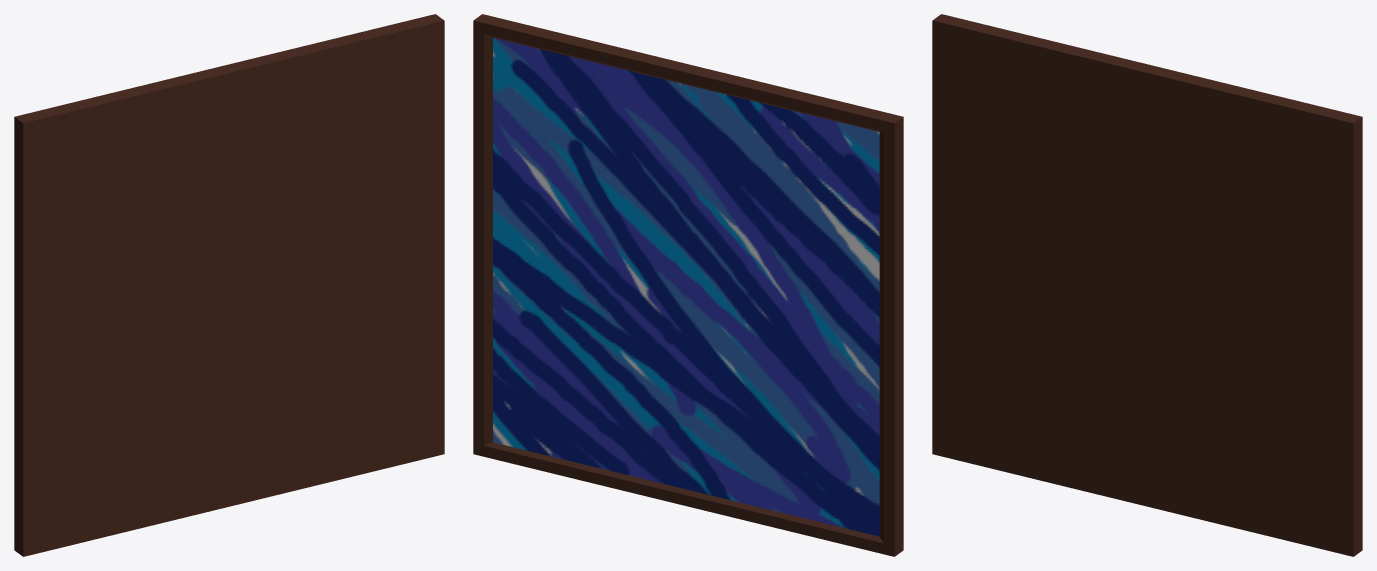
The model's file is Painting3.fbx.
The picture shows the model from 3 angles, left to right: view 1: azimuth 30°, elevation 25°; view 2: azimuth 150°, elevation 25°; view 3: azimuth 330°, elevation 25°; orthographic projection.
Parts seen in each view (by area): view 1: Cube.006; view 2: Cube.006; view 3: Cube.006.
Boxes of the visible parts, left/top/right/bottom form: Cube.006: left=14, top=14, right=444, bottom=556; Cube.006: left=473, top=14, right=903, bottom=556; Cube.006: left=932, top=14, right=1362, bottom=556.
Size of the model in its own units: 436 by 429 by 16.04.
2 materials, 1 textured.
